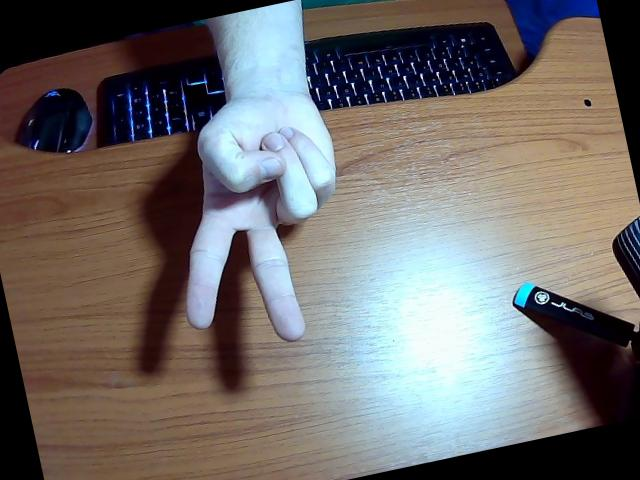scissors: (186, 0, 336, 341)
